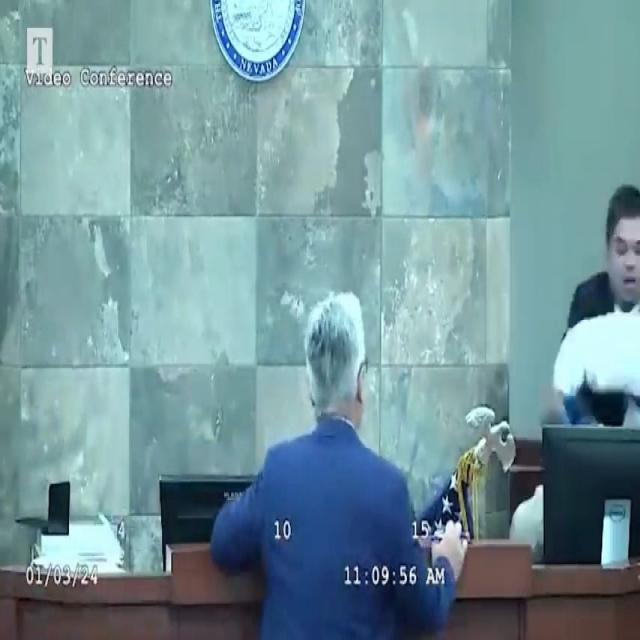fight: (545, 188, 640, 445)
non-fight: (195, 278, 464, 640)
